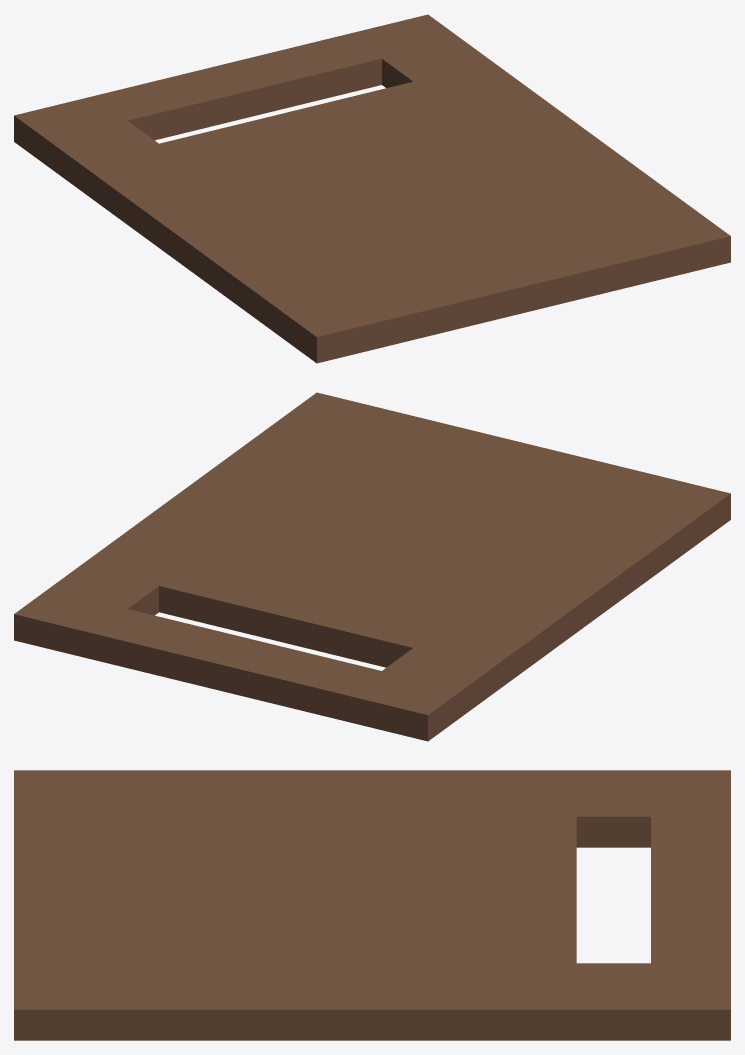
The model's file is cuttingBoard.fbx.
The picture shows the model from 3 angles, top to bottom: view 1: azimuth 30°, elevation 25°; view 2: azimuth 150°, elevation 25°; view 3: azimuth 270°, elevation 25°; orthographic projection. The views are drawn at different scales.
Parts seen in each view (by area): view 1: cutting_board; view 2: cutting_board; view 3: cutting_board.
Boxes of the visible parts, x1=… form: cutting_board: x1=14, y1=14, x2=730, y2=363; cutting_board: x1=14, y1=392, x2=730, y2=741; cutting_board: x1=14, y1=770, x2=730, y2=1040.
Bounding box in the file's own units: 200 × 12.15 × 253.
